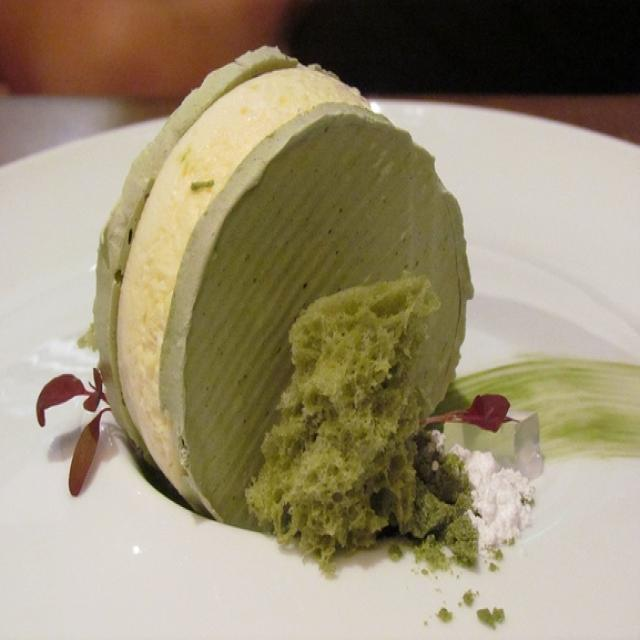蛋糕甜品: (60, 27, 563, 604)
